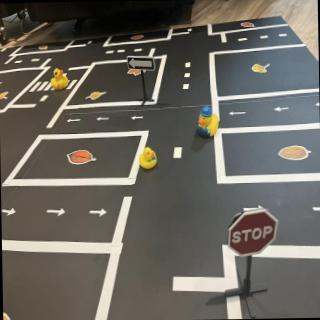duck_regular: (139, 146, 158, 172)
duck_specialty: (196, 105, 221, 142), (50, 68, 69, 91)
road_crosswalk: (27, 79, 80, 93)
road_oneway: (243, 204, 271, 215), (46, 206, 67, 220), (89, 207, 109, 220), (2, 207, 18, 219), (274, 105, 292, 114), (229, 110, 250, 117), (67, 117, 83, 125), (132, 115, 146, 123), (96, 116, 111, 123), (314, 99, 320, 113)
sign_oneway_left: (128, 55, 158, 74)
sign_stop: (228, 210, 280, 257)
